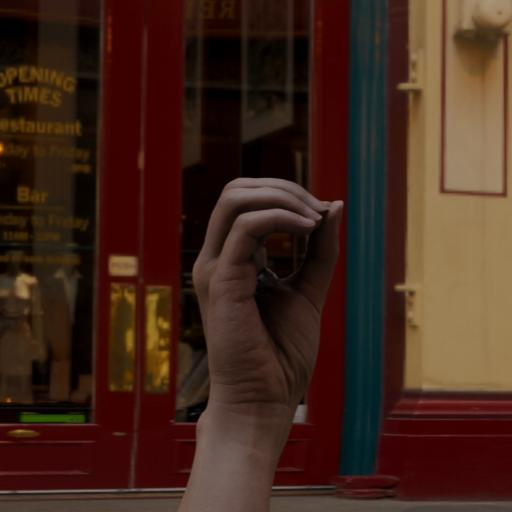O: (180, 167, 361, 508)
